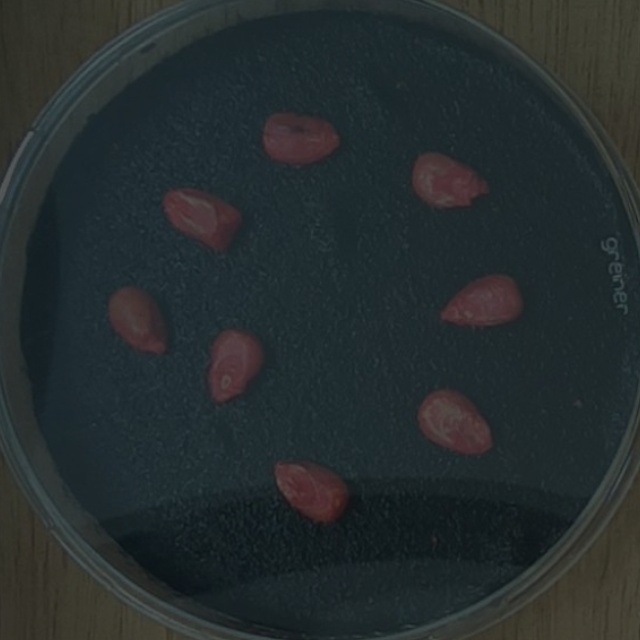Zea mays: (409, 378, 503, 462), (154, 178, 250, 256), (264, 449, 358, 527), (198, 318, 272, 412), (404, 142, 496, 217), (99, 276, 177, 363), (255, 101, 348, 172), (433, 264, 530, 332)
